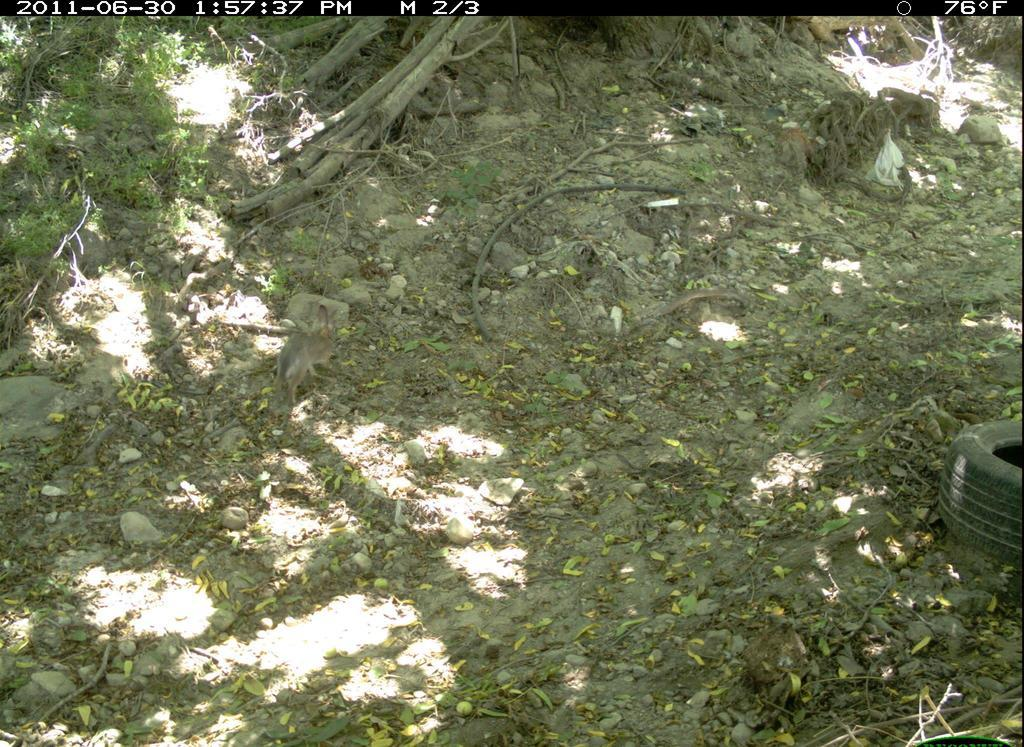rabbit: (267, 303, 343, 409)
